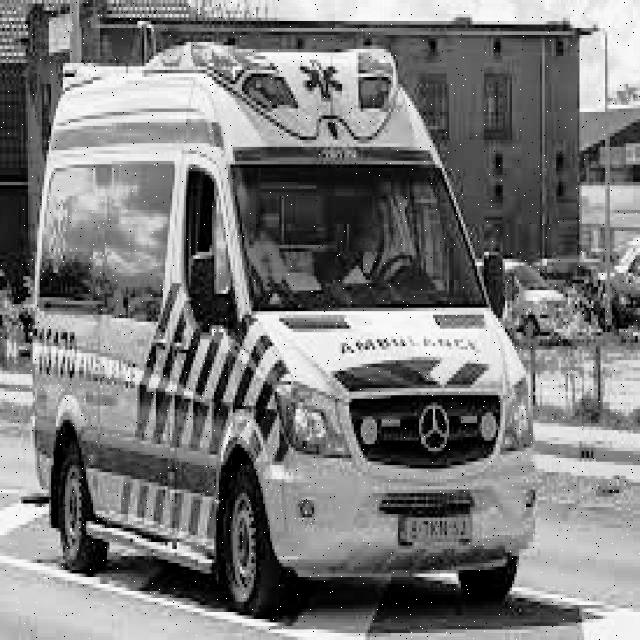LCV: (190, 46, 538, 579)
